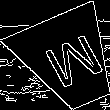M_SE: (33, 28, 105, 94)
